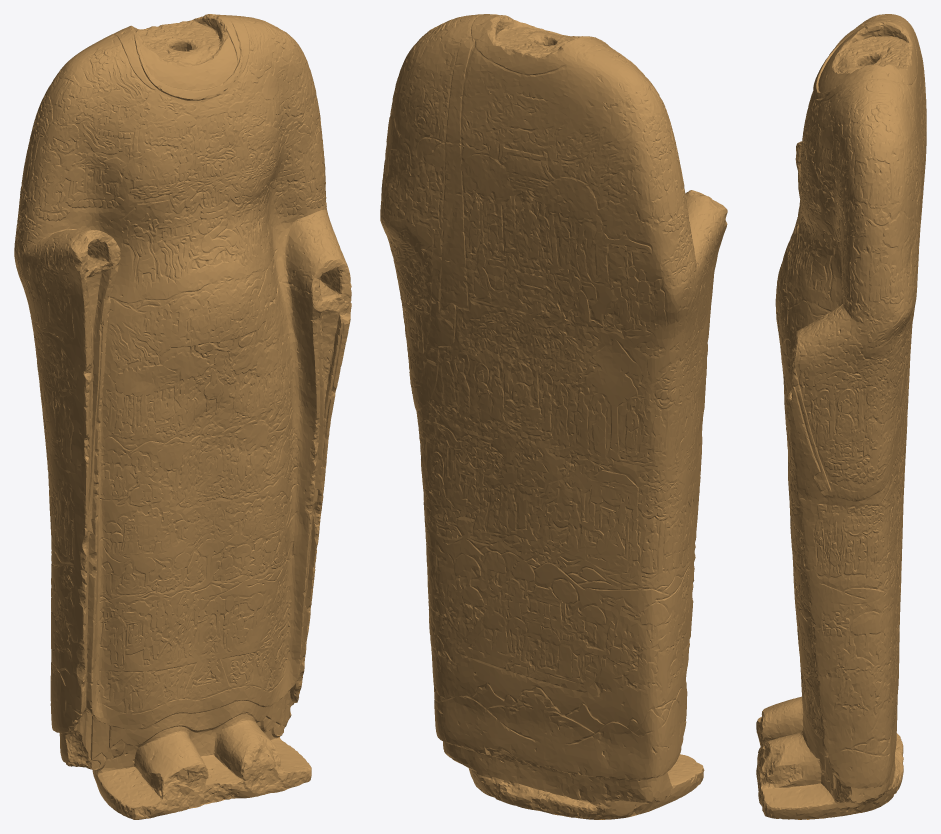
Rendered from buddha-main-desktop.glb.
3 views of the same model, side by side, from view 1: azimuth 30°, elevation 25°; view 2: azimuth 150°, elevation 25°; view 3: azimuth 270°, elevation 25° (orthographic). The views are drawn at different scales.
Parts seen in each view (by area): view 1: cosmic-buddha-smithsonian-cc0.stl; view 2: cosmic-buddha-smithsonian-cc0.stl; view 3: cosmic-buddha-smithsonian-cc0.stl.
Part boxes in pixels (left/top/right/bottom): cosmic-buddha-smithsonian-cc0.stl: left=14, top=14, right=351, bottom=819; cosmic-buddha-smithsonian-cc0.stl: left=380, top=14, right=727, bottom=819; cosmic-buddha-smithsonian-cc0.stl: left=756, top=14, right=926, bottom=819.
Bounding box in the file's own units: 1.76 × 4.2 × 0.8794.
